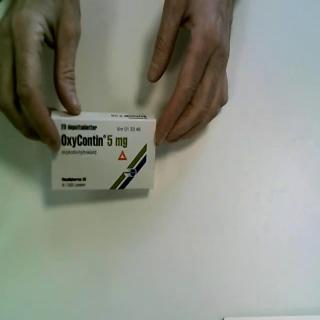oxycontin5mg: (50, 107, 159, 193)
